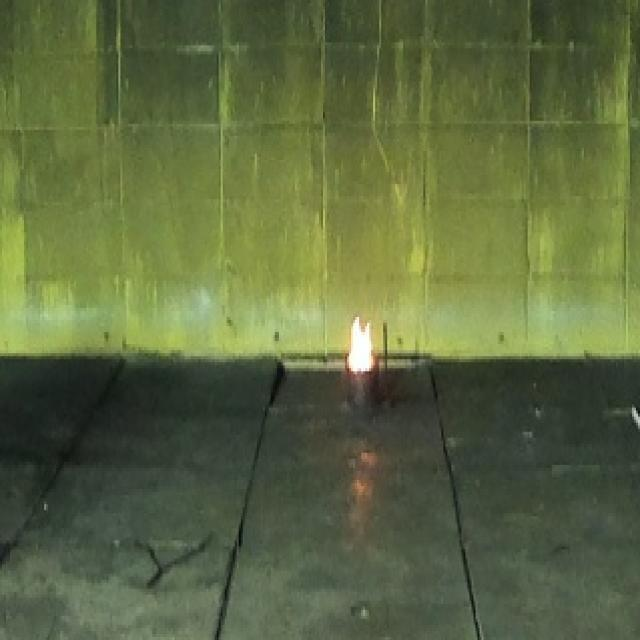Fire: (346, 315, 374, 374)
